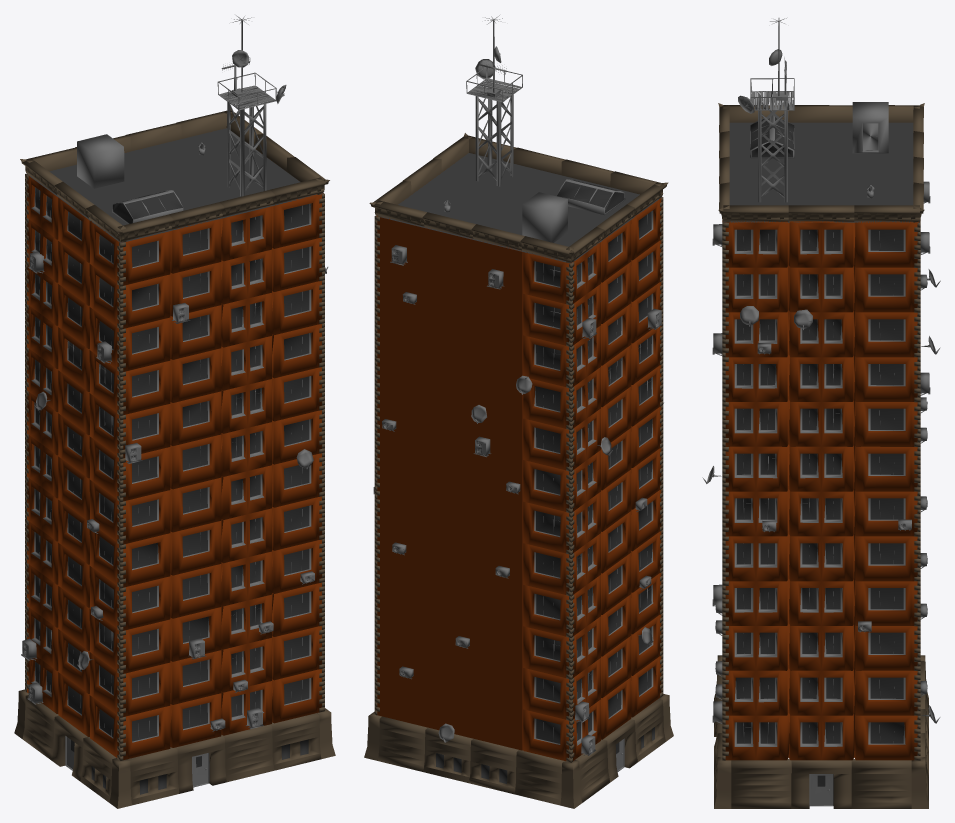
File: Building4_low.fbx
The picture shows the model from 3 angles, left to right: view 1: azimuth 30°, elevation 25°; view 2: azimuth 150°, elevation 25°; view 3: azimuth 270°, elevation 25°; orthographic projection. The views are drawn at different scales.
Visible parts, largest first — view 1: air_vent_a.005; view 2: air_vent_a.005; view 3: air_vent_a.005.
Boxes of the visible parts, box(x1,y1,x2,y2) form: air_vent_a.005: box(14, 15, 335, 808); air_vent_a.005: box(364, 15, 673, 808); air_vent_a.005: box(702, 18, 940, 808).
Bounding box in the file's own units: 17.31 × 50.68 × 14.48.
